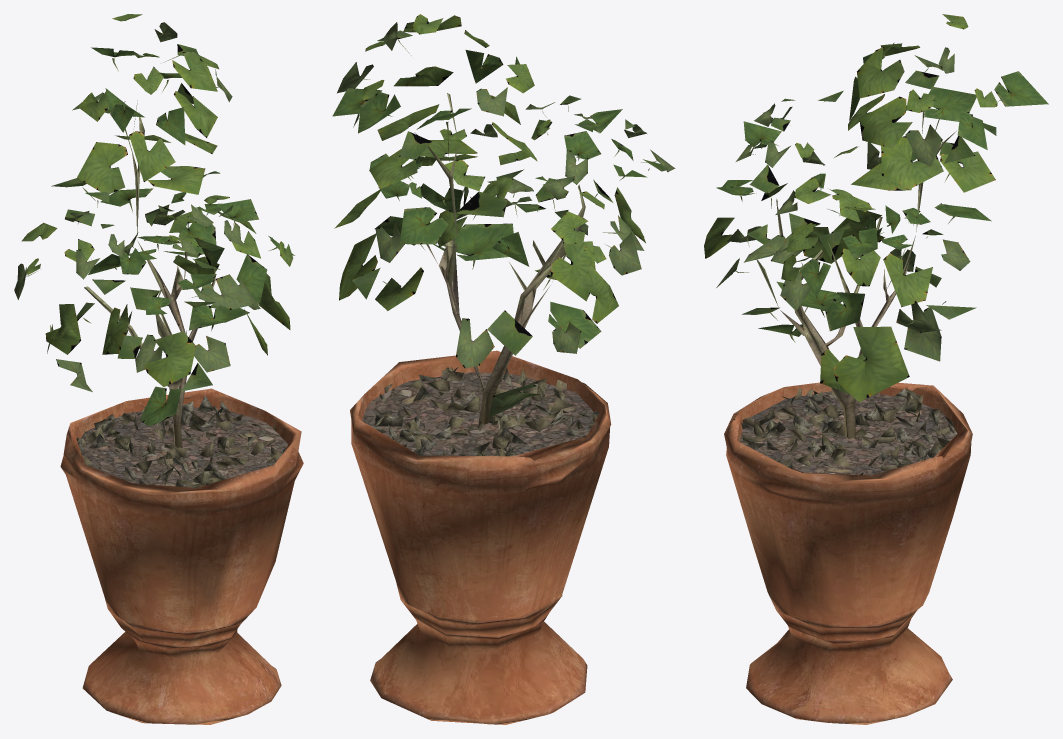
The model's file is assets__ph__potted_plant_01.glb.
3 views of the same model, side by side, from view 1: azimuth 30°, elevation 25°; view 2: azimuth 150°, elevation 25°; view 3: azimuth 270°, elevation 25° (orthographic). The views are drawn at different scales.
Visible parts, largest first — view 1: potted_plant_01_stem, potted_plant_01_leaves; view 2: potted_plant_01_stem, potted_plant_01_leaves; view 3: potted_plant_01_stem, potted_plant_01_leaves.
Boxes of the visible parts, x1,y1,x2,y2 form: potted_plant_01_stem: [60, 100, 303, 724]; potted_plant_01_leaves: [14, 14, 294, 426]; potted_plant_01_stem: [350, 93, 611, 724]; potted_plant_01_leaves: [332, 14, 675, 417]; potted_plant_01_stem: [724, 111, 972, 724]; potted_plant_01_leaves: [704, 14, 1048, 402].
Bounding box in the file's own units: 0.5866 × 1.33 × 0.6256.
Materials: 2 (2 with a texture image).
